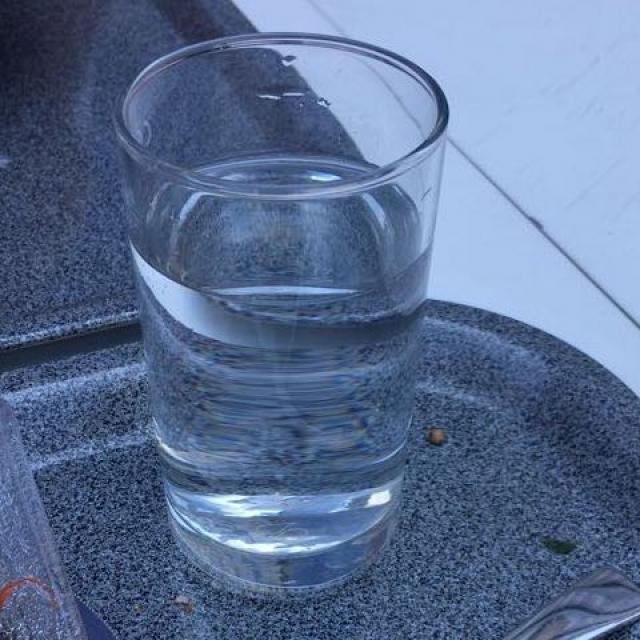water: (138, 163, 444, 592)
